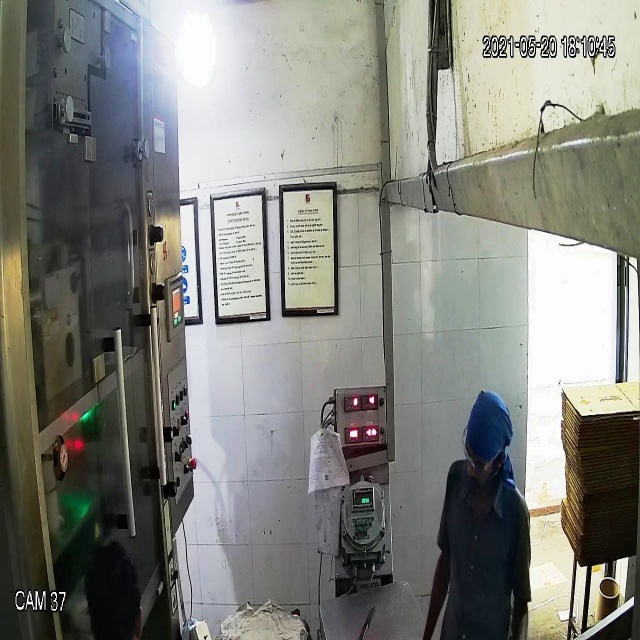Gafas: (459, 426, 507, 475)
